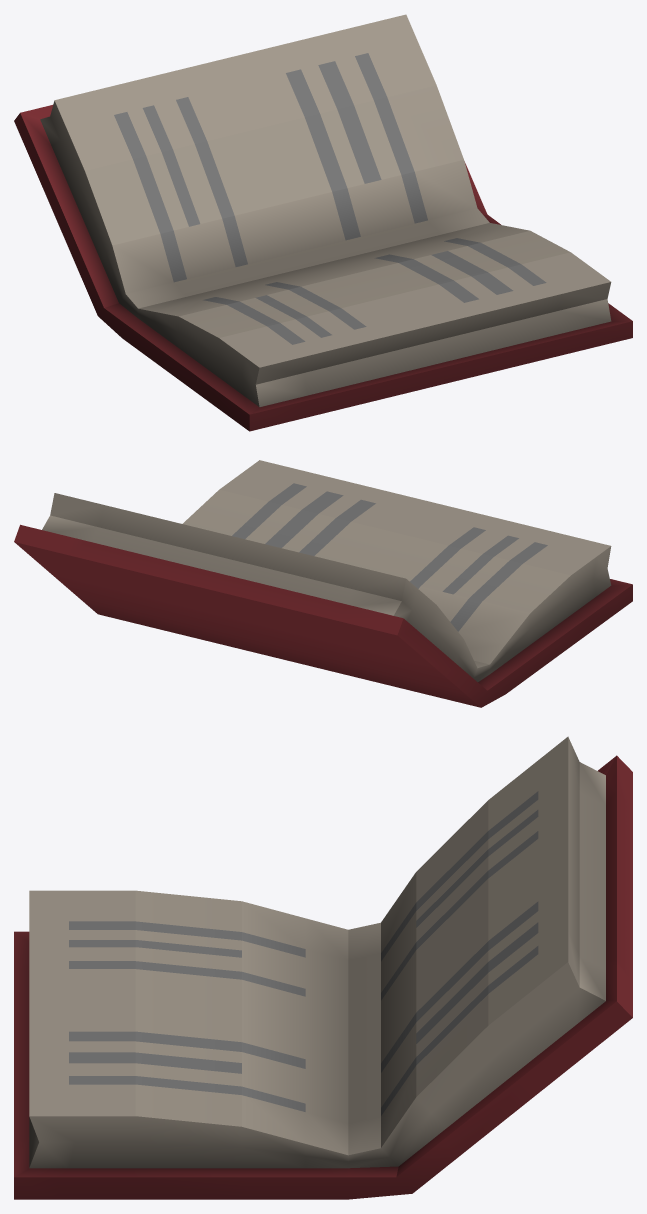
File: pq_livre_d1.glb
The picture shows the model from 3 angles, top to bottom: view 1: azimuth 30°, elevation 25°; view 2: azimuth 150°, elevation 25°; view 3: azimuth 270°, elevation 25°; orthographic projection. The views are drawn at different scales.
Visible parts, largest first — view 1: Book2; view 2: Book2; view 3: Book2.
Part boxes in pixels (x1,y1,x2,y2): Book2: (14,14,632,431); Book2: (14,460,632,707); Book2: (14,736,632,1199).
Bounding box in the file's own units: 0.2388 × 0.103 × 0.2541.
